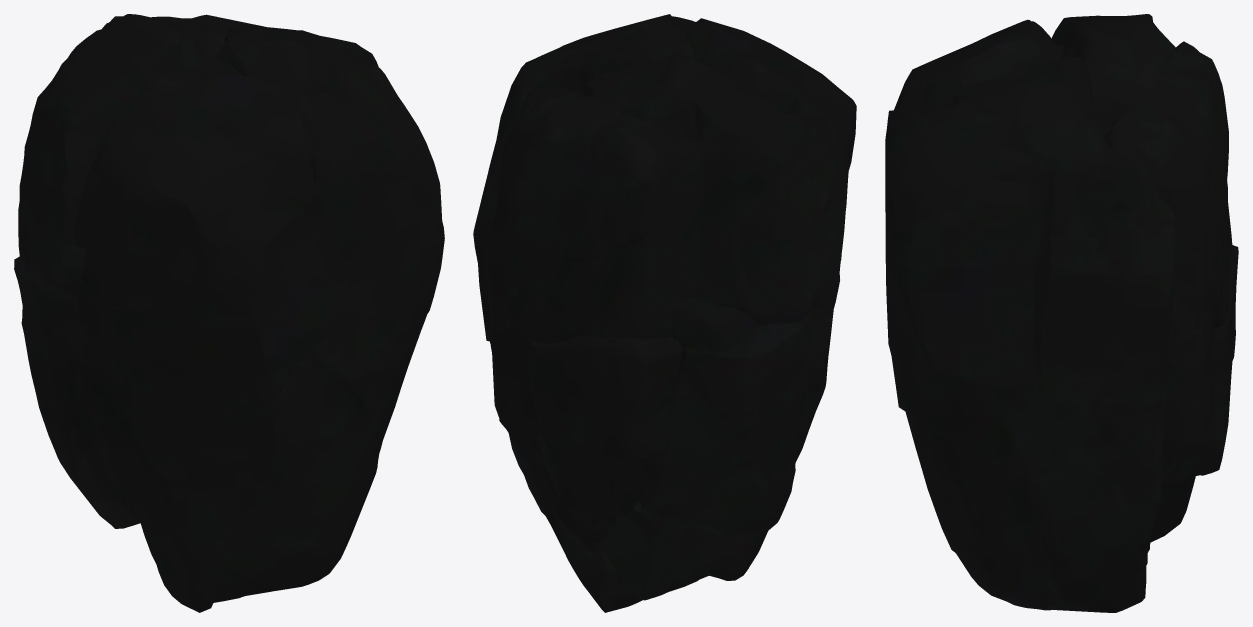
3 views of the same model, side by side, from view 1: azimuth 30°, elevation 25°; view 2: azimuth 150°, elevation 25°; view 3: azimuth 270°, elevation 25° (orthographic). The views are drawn at different scales.
Visible parts, largest first — view 1: SM_LimestoneMid_02_LOD0; view 2: SM_LimestoneMid_02_LOD0; view 3: SM_LimestoneMid_02_LOD0.
Boxes of the visible parts, x1,y1,x2,y2 form: SM_LimestoneMid_02_LOD0: (14, 14, 444, 612); SM_LimestoneMid_02_LOD0: (473, 14, 856, 612); SM_LimestoneMid_02_LOD0: (885, 14, 1238, 612).
Size of the model in its own units: 2.77 by 4.45 by 2.58.
1 material, 1 textured.
